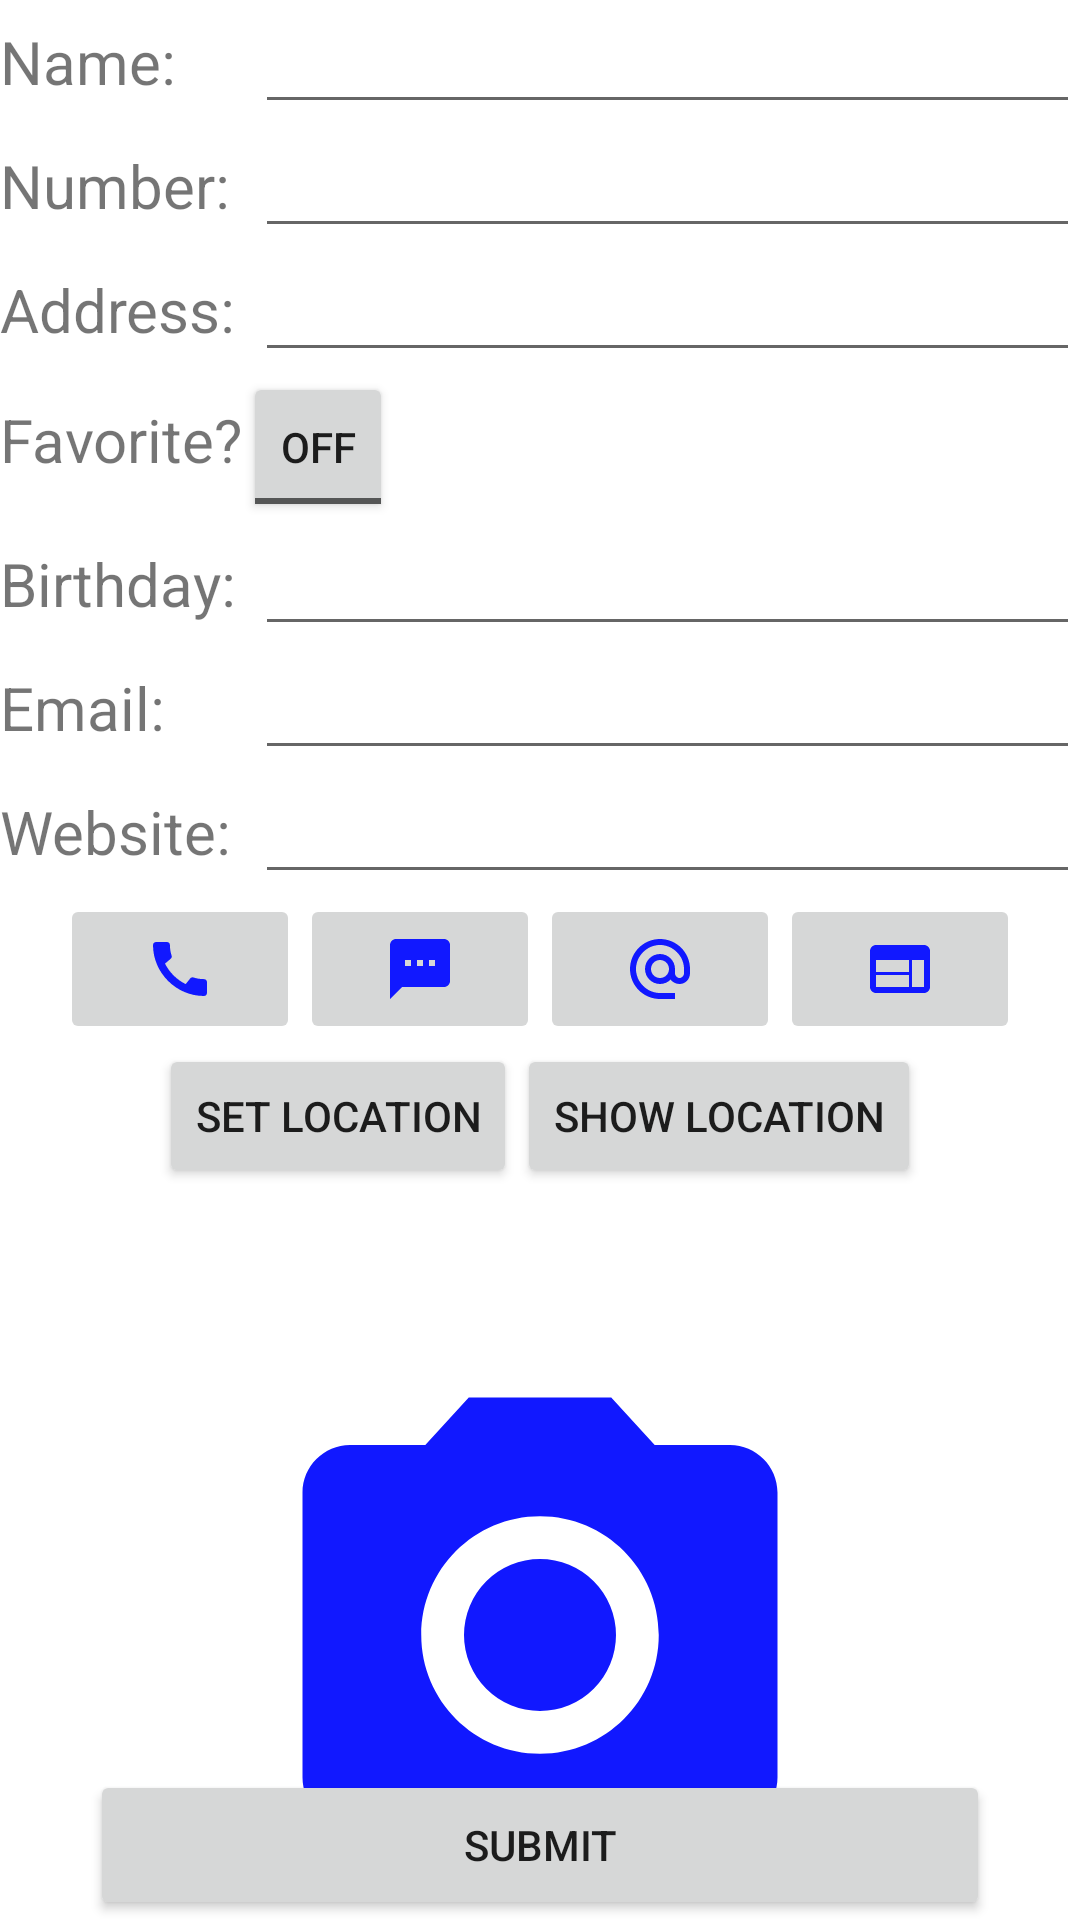

Named icons in this screenshot (1080w x 1920h) and their bounding boxes, (x1, y1, x2, y2):
alternate email: (552, 912, 768, 1026)
call: (72, 912, 288, 1026)
web: (792, 912, 1008, 1026)
